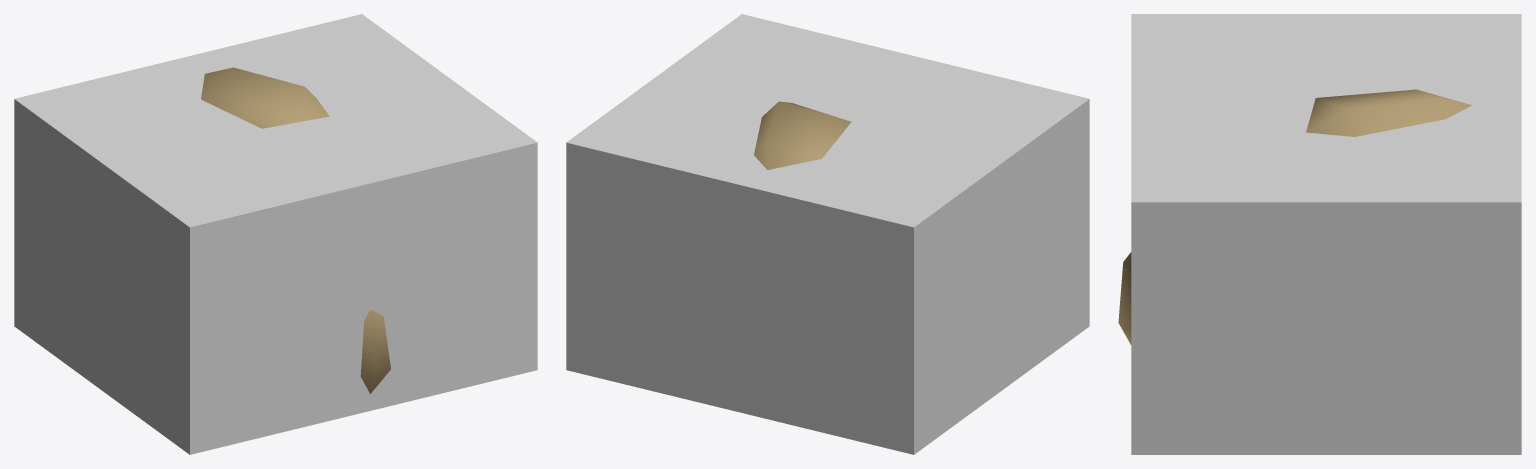
File: sacks.glb
The picture shows the model from 3 angles, left to right: view 1: azimuth 30°, elevation 25°; view 2: azimuth 150°, elevation 25°; view 3: azimuth 270°, elevation 25°; orthographic projection. The views are drawn at different scales.
Visible parts, largest first — view 1: COL_sacks, sacks; view 2: COL_sacks, sacks; view 3: COL_sacks, sacks.
Part boxes in pixels (x1=…): COL_sacks: x1=14, y1=14, x2=537, y2=454; sacks: x1=201, y1=67, x2=390, y2=393; COL_sacks: x1=566, y1=14, x2=1089, y2=454; sacks: x1=754, y1=101, x2=851, y2=169; COL_sacks: x1=1131, y1=14, x2=1521, y2=454; sacks: x1=1118, y1=89, x2=1471, y2=344.
Size of the model in its own units: 1.2 by 0.8066 by 1.08.
